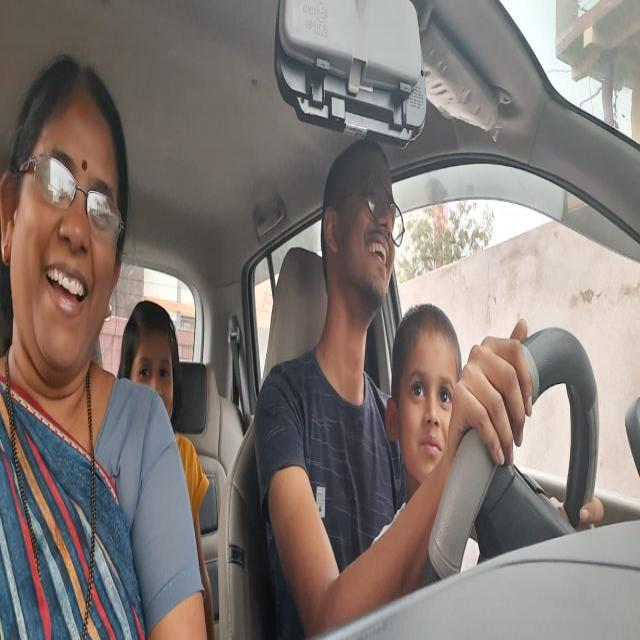child: (383, 301, 468, 485)
person: (2, 42, 127, 404), (321, 132, 406, 336), (121, 297, 183, 451)
